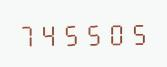five: (62, 20, 83, 47), (84, 19, 105, 46), (128, 19, 149, 45)
four: (39, 20, 60, 47)
seven: (17, 21, 38, 47)
zero: (106, 19, 127, 46)
